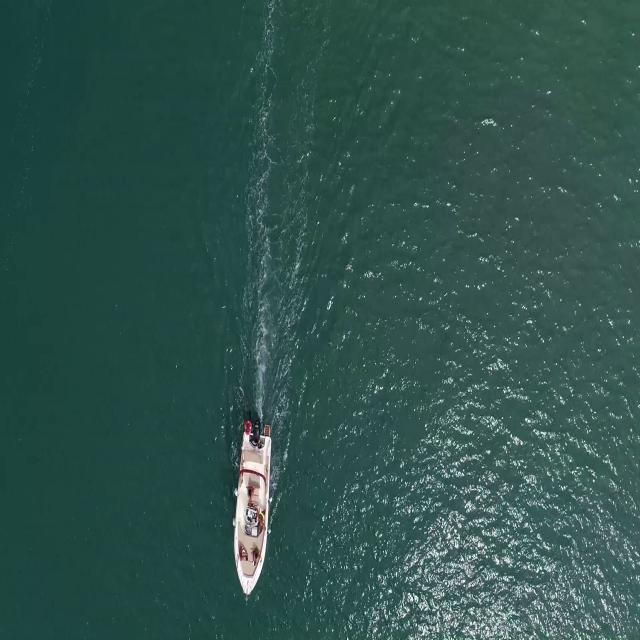boat: (230, 431, 273, 598)
life_buoy: (243, 421, 251, 434)
person: (237, 544, 249, 566), (245, 483, 255, 508), (257, 509, 267, 532), (252, 547, 262, 565)
